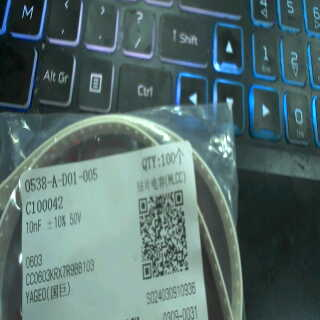10nF: (25, 217, 45, 240)
